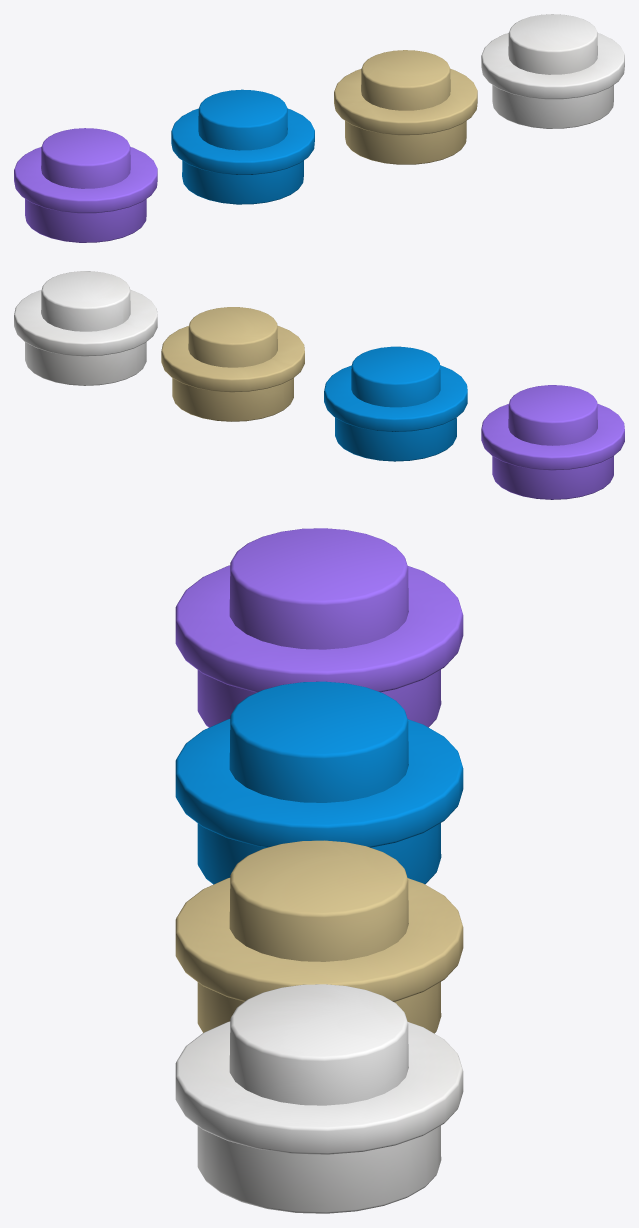
The model's file is Stud.fbx.
The picture shows the model from 3 angles, top to bottom: view 1: azimuth 30°, elevation 25°; view 2: azimuth 150°, elevation 25°; view 3: azimuth 270°, elevation 25°; orthographic projection. The views are drawn at different scales.
Visible parts, largest first — view 1: BlueStud, GoldStud, PurpleStud, SilverStud; view 2: BlueStud, SilverStud, GoldStud, PurpleStud; view 3: SilverStud, BlueStud, PurpleStud, GoldStud.
Boxes of the visible parts, x1,y1,x2,y2 form: BlueStud: (171,89,314,204); GoldStud: (334,50,477,164); PurpleStud: (14,128,157,242); SilverStud: (481,14,624,128); BlueStud: (324,346,467,461); SilverStud: (14,271,157,385); GoldStud: (161,307,304,421); PurpleStud: (481,385,624,499); SilverStud: (175,984,463,1213); BlueStud: (175,681,463,884); PurpleStud: (175,528,463,727); GoldStud: (175,840,463,1033).
Bounding box in the file's own units: 2.85 × 0.3328 × 0.6.
